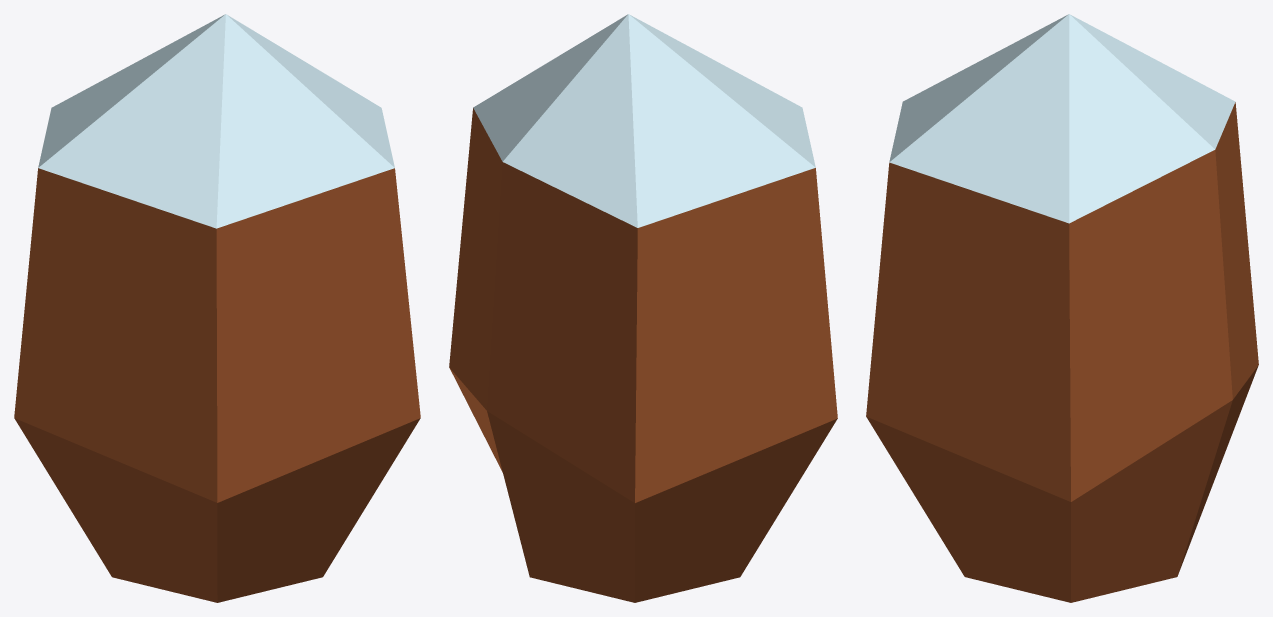
File: SM_Env_Generic_Bush_02_Snow.fbx
3 renders of one model, left to right at view 1: azimuth 30°, elevation 25°; view 2: azimuth 150°, elevation 25°; view 3: azimuth 270°, elevation 25°, orthographic.
Visible parts, largest first — view 1: SM_Env_Generic_Bush_02_Snow; view 2: SM_Env_Generic_Bush_02_Snow; view 3: SM_Env_Generic_Bush_02_Snow.
Part boxes in pixels (bbox=[...]): SM_Env_Generic_Bush_02_Snow: bbox=[14, 14, 420, 602]; SM_Env_Generic_Bush_02_Snow: bbox=[449, 14, 837, 602]; SM_Env_Generic_Bush_02_Snow: bbox=[866, 14, 1258, 602].
Size of the model in its own units: 24.03 by 32.83 by 20.81.
Materials: 1 (1 with a texture image).
